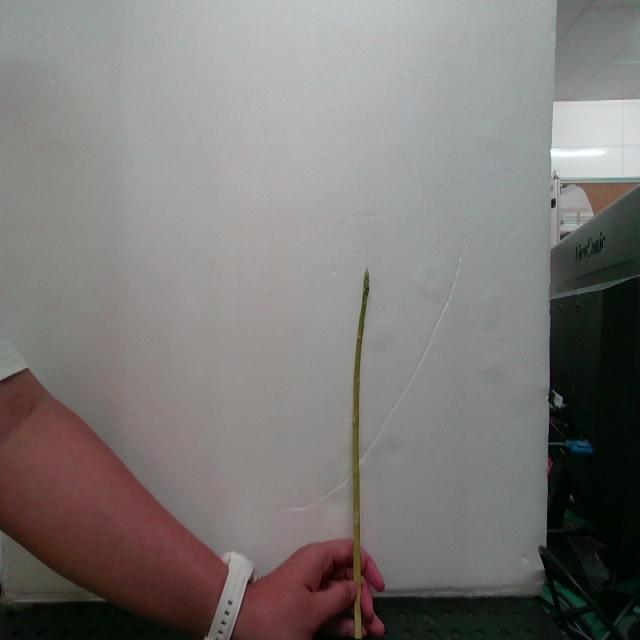aspargus: (350, 273, 383, 640)
